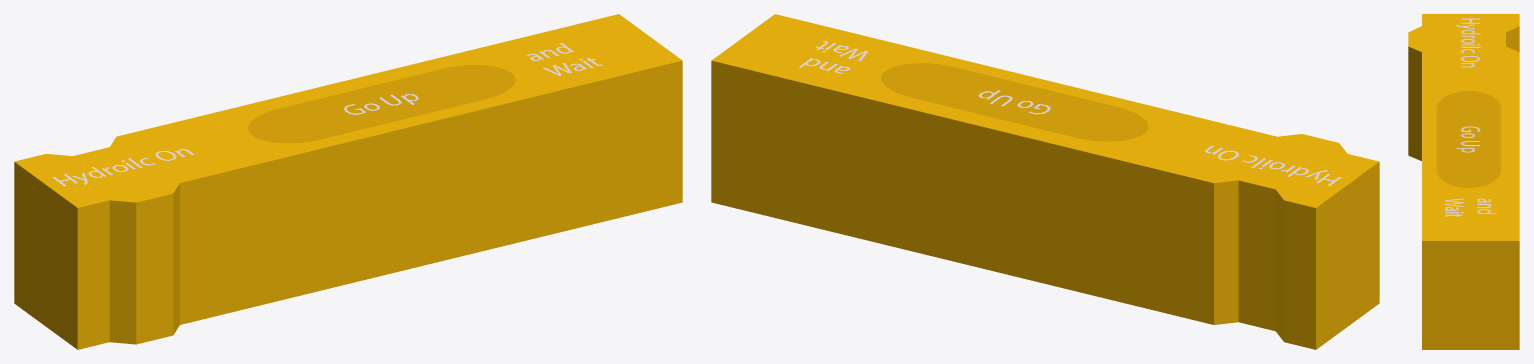
The model's file is logic trigger.fbx.
3 views of the same model, side by side, from view 1: azimuth 30°, elevation 25°; view 2: azimuth 150°, elevation 25°; view 3: azimuth 270°, elevation 25° (orthographic). The views are drawn at different scales.
Parts seen in each view (by area): view 1: Curve; view 2: Curve; view 3: Curve.
Boxes of the visible parts, left/top/right/bottom form: Curve: left=14, top=14, right=682, bottom=349; Curve: left=711, top=14, right=1379, bottom=349; Curve: left=1408, top=14, right=1519, bottom=349.
Bounding box in the file's own units: 26.61 × 5.97 × 5.53.
